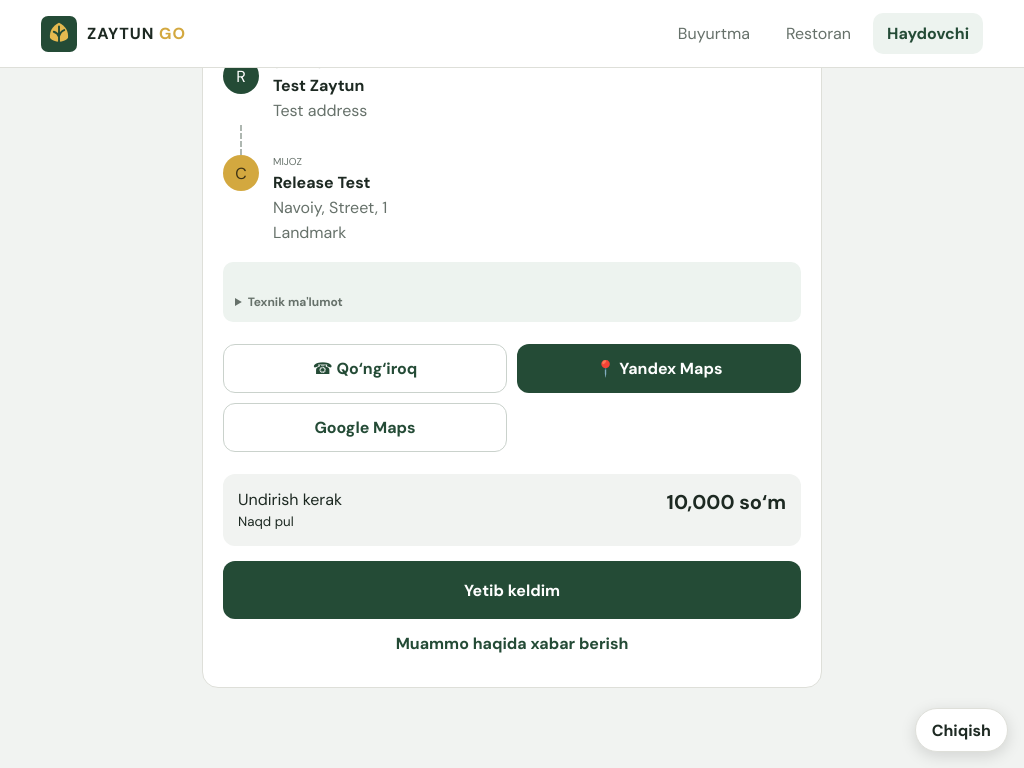
driver work surface: Keyingi yetkazish removed, active assignment preserved › keeps issue-reporting and delivery-failed actions available as before
(page scrolled)
Expected: the button with test id "driver-primary-action" is shown, [223, 561, 801, 619]
Click the button with test id "driver-report-issue-toggle" at point(512, 643), box [223, 619, 801, 667]
(page scrolled)
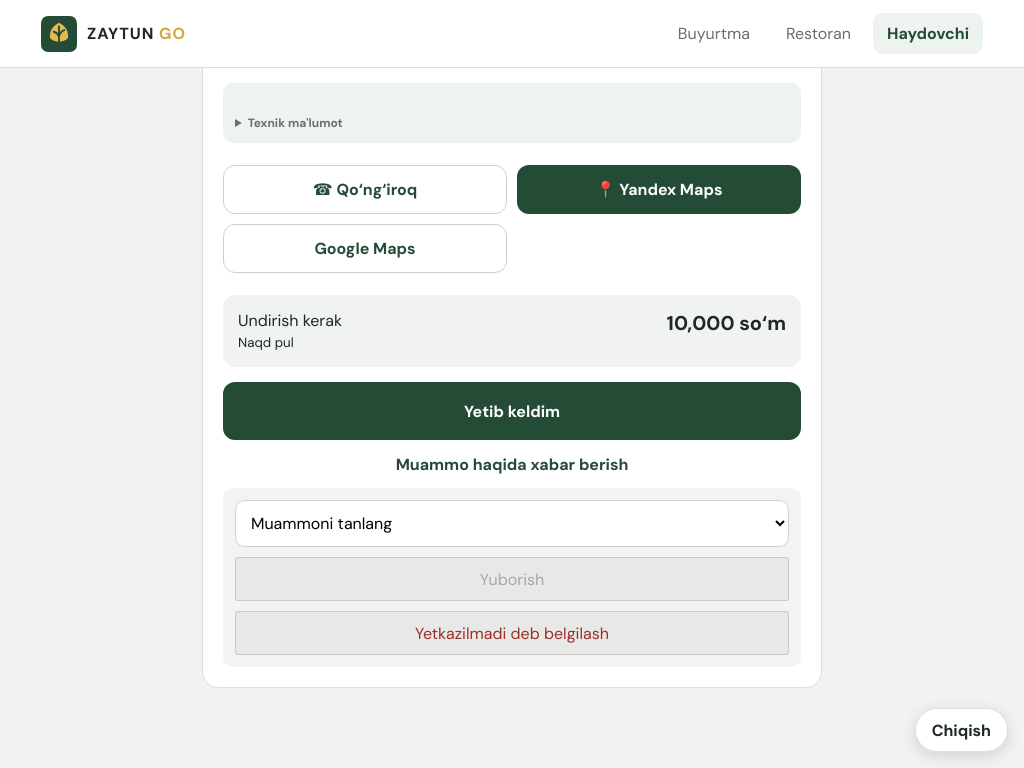
Now the button with test id "driver-report-issue-submit" is shown, box [235, 557, 789, 601]
Now the button with test id "driver-mark-failed" is shown, box [235, 611, 789, 655]
